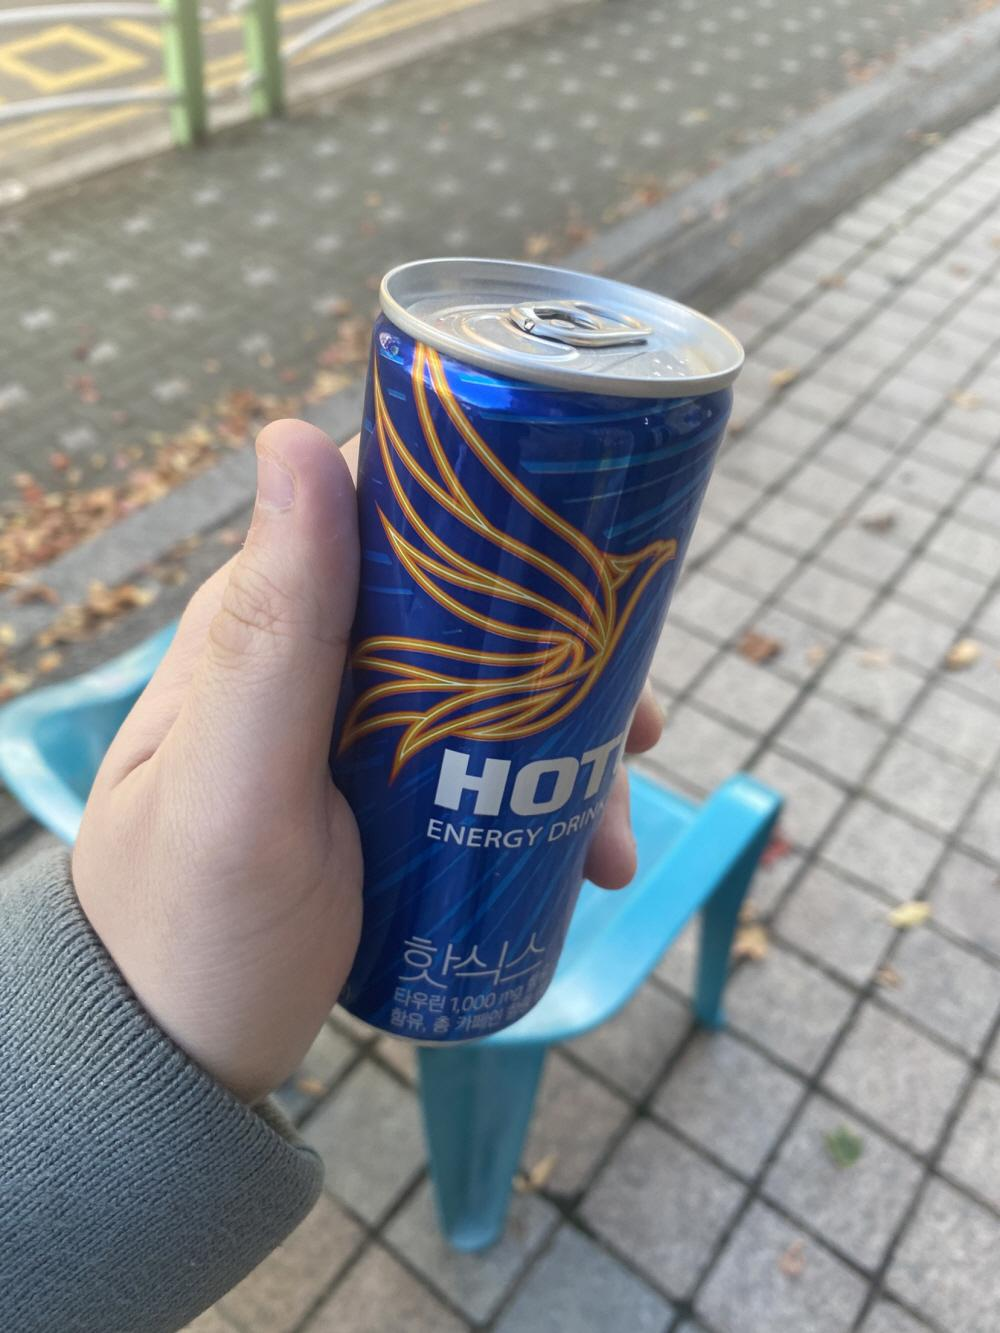hotsix_org: (351, 264, 651, 1056)
